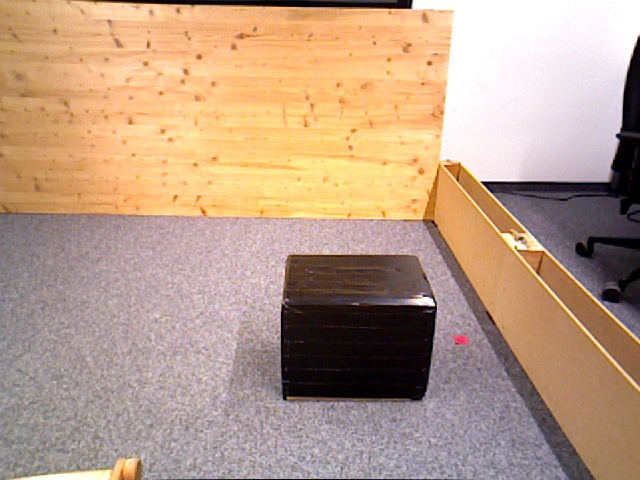push: (283, 253, 436, 404)
